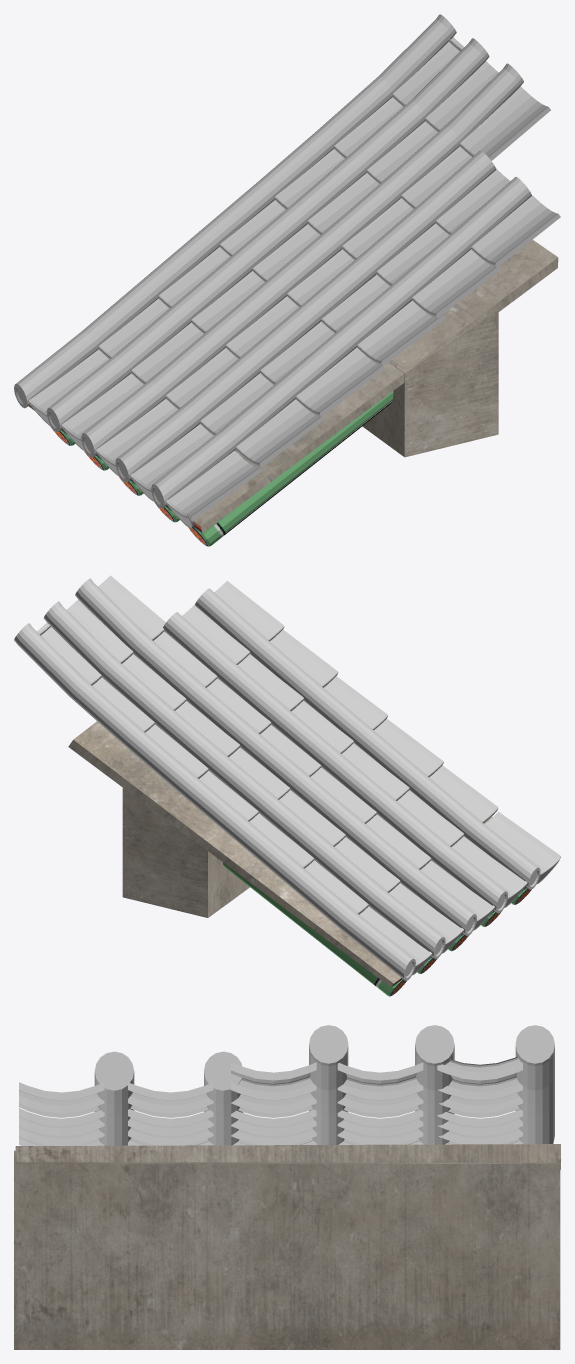
File: SM_Roof_28.fbx
3 renders of one model, top to bottom at view 1: azimuth 30°, elevation 25°; view 2: azimuth 150°, elevation 25°; view 3: azimuth 270°, elevation 25°, orthographic. The views are drawn at different scales.
Parts seen in each view (by area): view 1: SM_Roof_28; view 2: SM_Roof_28; view 3: SM_Roof_28.
Boxes of the visible parts, bbox=[...] form: SM_Roof_28: bbox=[14, 14, 560, 546]; SM_Roof_28: bbox=[14, 575, 560, 996]; SM_Roof_28: bbox=[14, 1025, 560, 1349].
Bounding box in the file's own units: 298 × 211 × 212.
